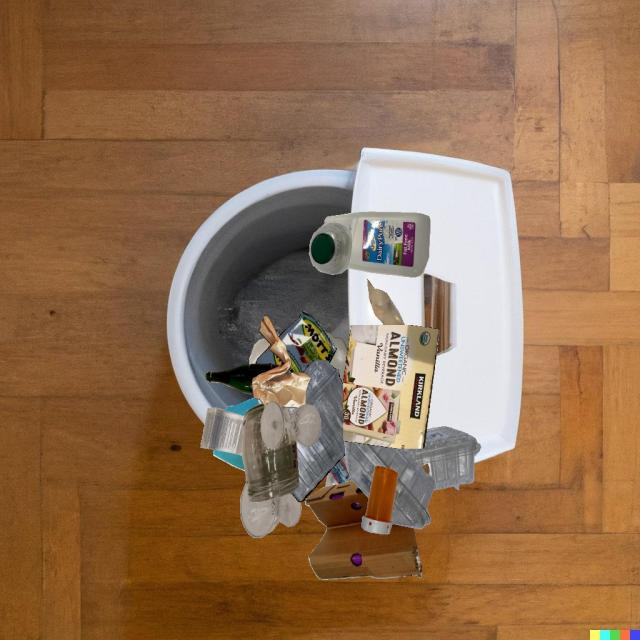cardboard: (343, 325, 440, 449), (305, 480, 421, 580)
glass: (242, 403, 298, 502), (240, 483, 301, 538), (261, 401, 321, 449), (205, 363, 279, 394), (367, 279, 405, 325)
paper: (252, 317, 311, 408), (200, 408, 244, 455), (213, 450, 245, 471), (224, 398, 259, 416), (342, 381, 343, 384)
plastic: (344, 441, 435, 529), (291, 360, 345, 502), (324, 212, 430, 277), (404, 426, 481, 491), (256, 333, 327, 399), (361, 466, 398, 534), (309, 222, 352, 275), (327, 333, 348, 381), (325, 454, 352, 487), (249, 338, 270, 364)
trash: (279, 310, 337, 373)
